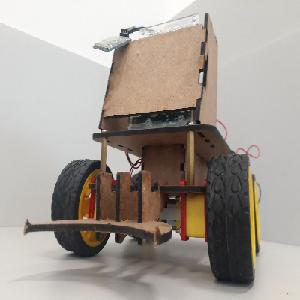Robot: (26, 14, 260, 285)
